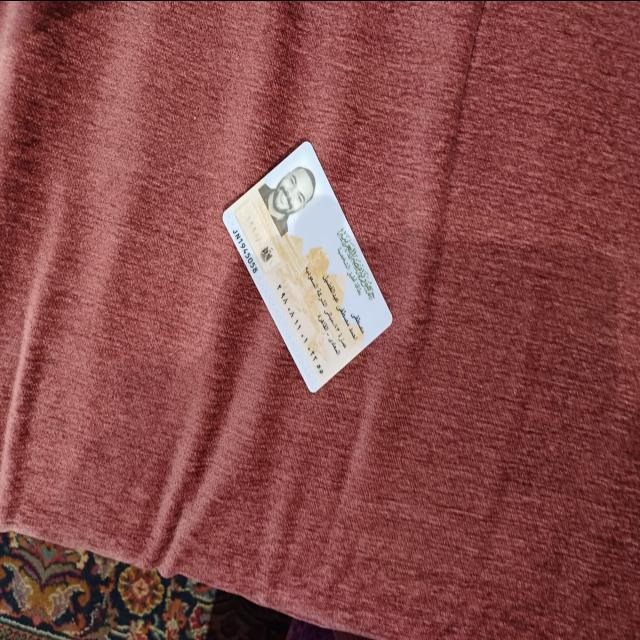id_card: (216, 127, 403, 399)
